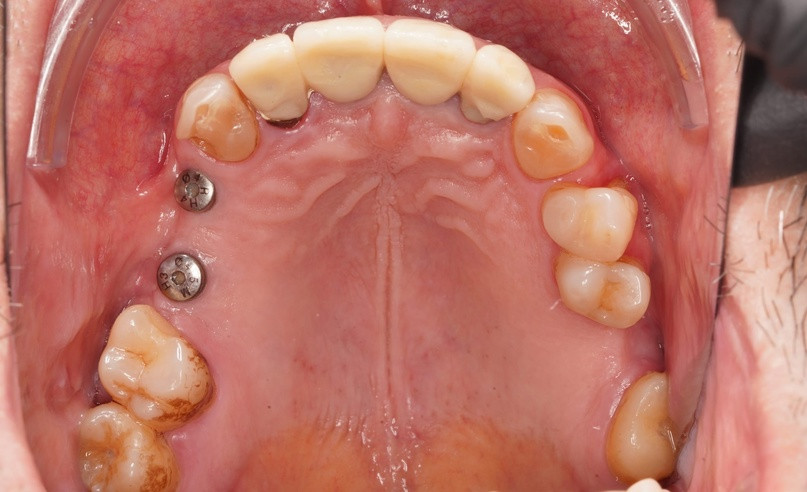UL1BC_healthy: (545, 182, 635, 260)
UL1M_decay: (606, 373, 677, 476)
UL2BC_healthy: (553, 256, 654, 326)
ULCI_healthy: (385, 14, 468, 114)
ULC_decay: (512, 95, 590, 180)
ULLI_healthy: (465, 57, 533, 123)
UR1M_decay: (106, 311, 214, 420)
UR2M_decay: (84, 413, 174, 492)
URCI_healthy: (298, 20, 383, 98)
URC_decay: (177, 78, 256, 164)
URLI_decay: (233, 39, 310, 127)
